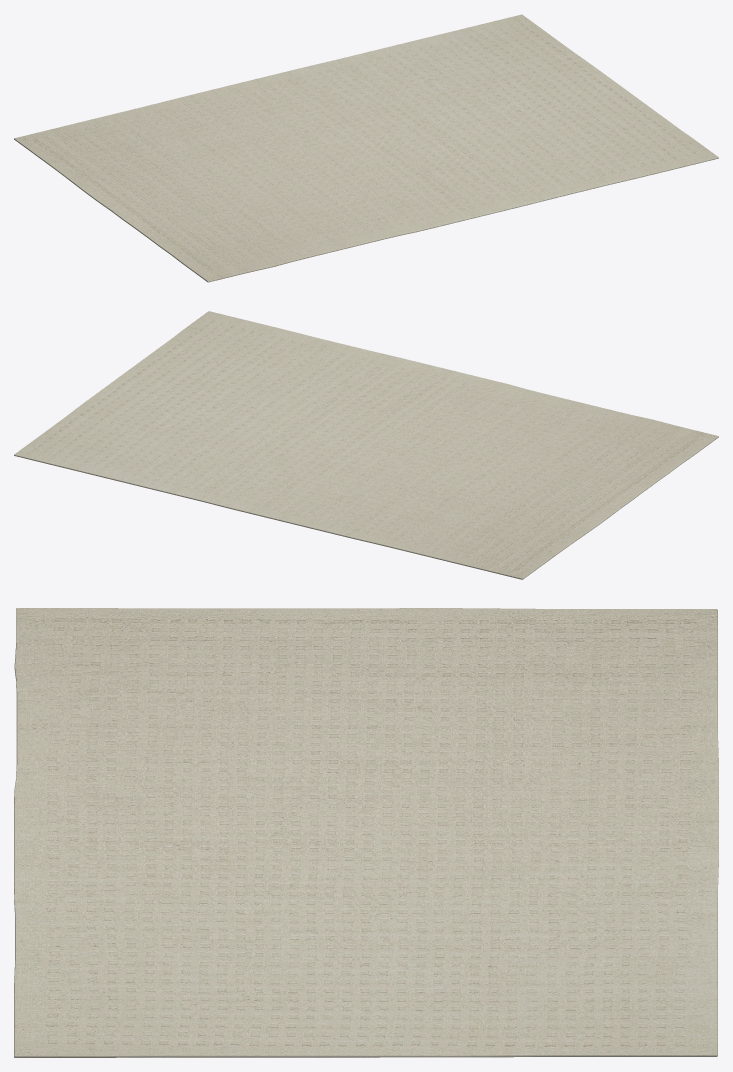
Rendered from B07B4WKMYK.glb.
3 renders of one model, top to bottom at view 1: azimuth 30°, elevation 25°; view 2: azimuth 150°, elevation 25°; view 3: azimuth 270°, elevation 25°, orthographic. The views are drawn at different scales.
Visible parts, largest first — view 1: RootNode; view 2: RootNode; view 3: RootNode.
Boxes of the visible parts, x1,y1,x2,y2 form: RootNode: (14,14,718,282); RootNode: (14,311,718,579); RootNode: (14,608,718,1057).
Size of the model in its own units: 2.29 by 0.00587 by 1.52.
1 material, 1 textured.
